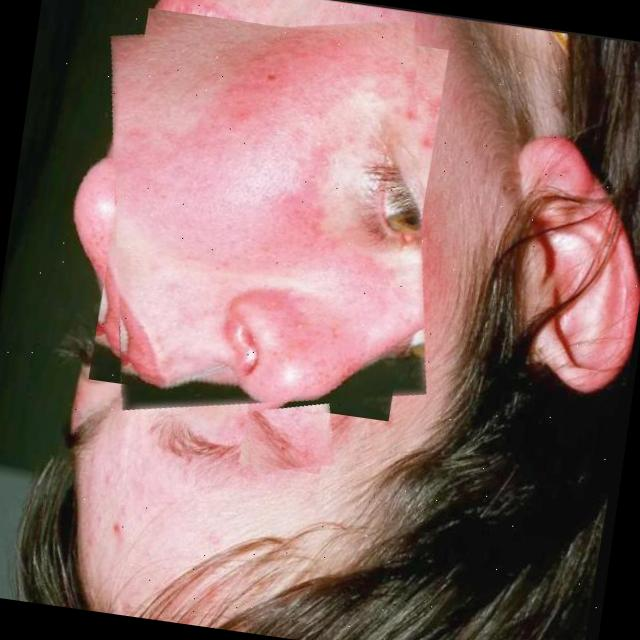redness: (117, 26, 426, 402), (245, 353, 337, 467)
